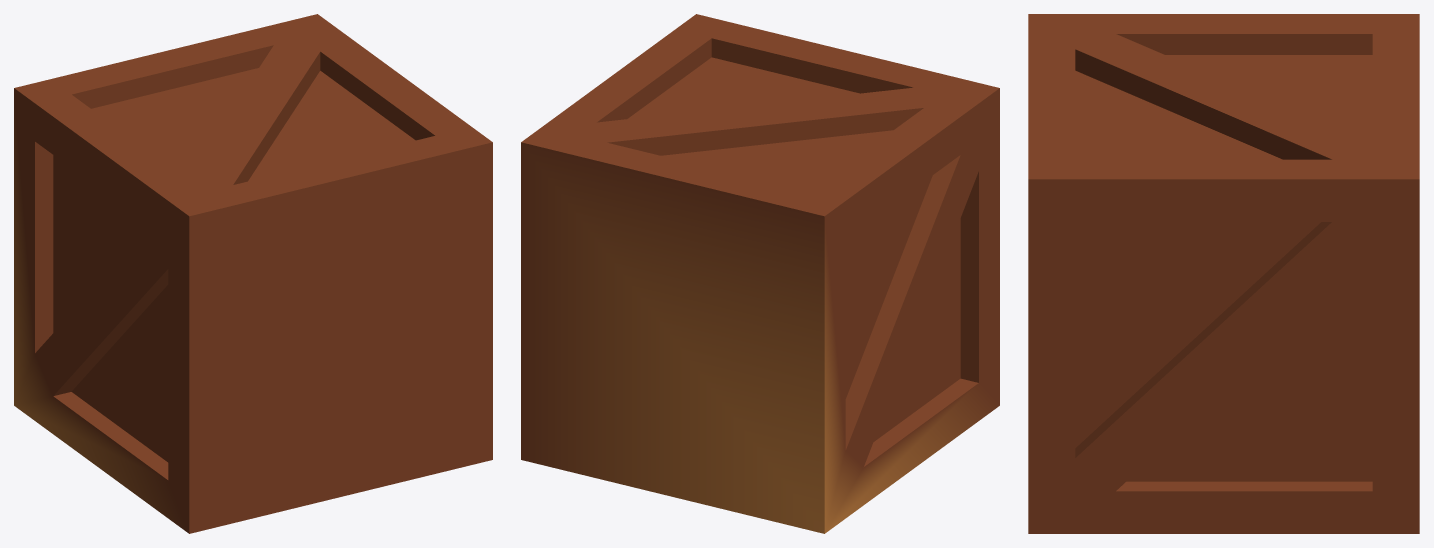
File: crate.gltf
3 renders of one model, left to right at view 1: azimuth 30°, elevation 25°; view 2: azimuth 150°, elevation 25°; view 3: azimuth 270°, elevation 25°, orthographic. The views are drawn at different scales.
Visible parts, largest first — view 1: chest; view 2: chest; view 3: chest.
Part boxes in pixels (x1=…): chest: x1=14, y1=14, x2=492, y2=533; chest: x1=521, y1=14, x2=999, y2=533; chest: x1=1028, y1=14, x2=1419, y2=533.
Bounding box in the file's own units: 1 × 1 × 1.
